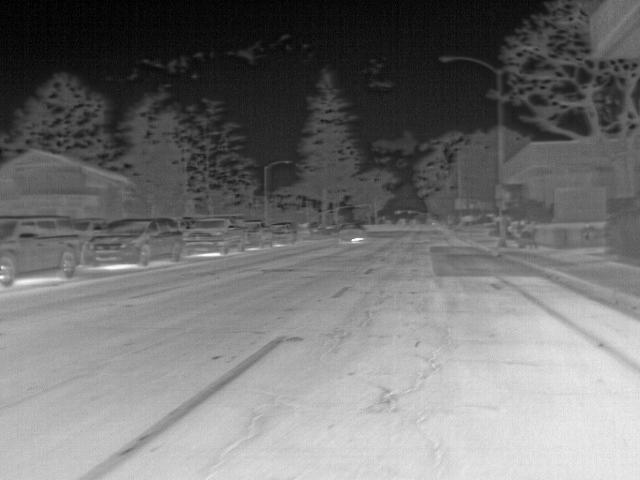car: (0, 214, 83, 287), (83, 215, 183, 268), (181, 218, 245, 254), (241, 222, 273, 250), (271, 222, 298, 248), (339, 223, 366, 243), (305, 222, 321, 236), (298, 224, 311, 240)
person: (581, 221, 596, 247)
